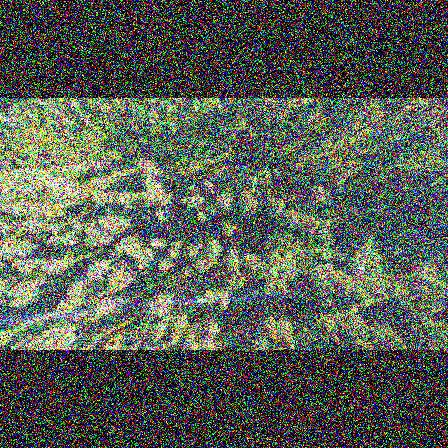Sick: (194, 261, 206, 274)
